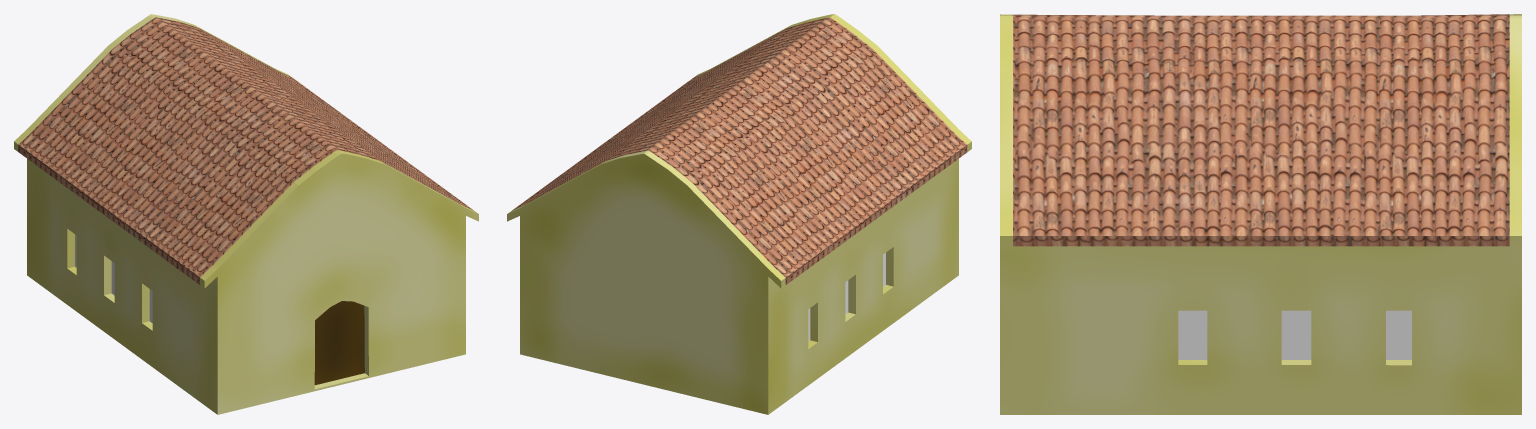
Rendered from Church v1.FBX.
The picture shows the model from 3 angles, left to right: view 1: azimuth 30°, elevation 25°; view 2: azimuth 150°, elevation 25°; view 3: azimuth 270°, elevation 25°; orthographic projection. The views are drawn at different scales.
Visible parts, largest first — view 1: Box014; view 2: Box014; view 3: Box014.
Boxes of the visible parts, x1,y1,x2,y2 form: Box014: [14, 14, 478, 414]; Box014: [507, 14, 971, 414]; Box014: [1000, 14, 1521, 414].
Bounding box in the file's own units: 367 × 296 × 442.
